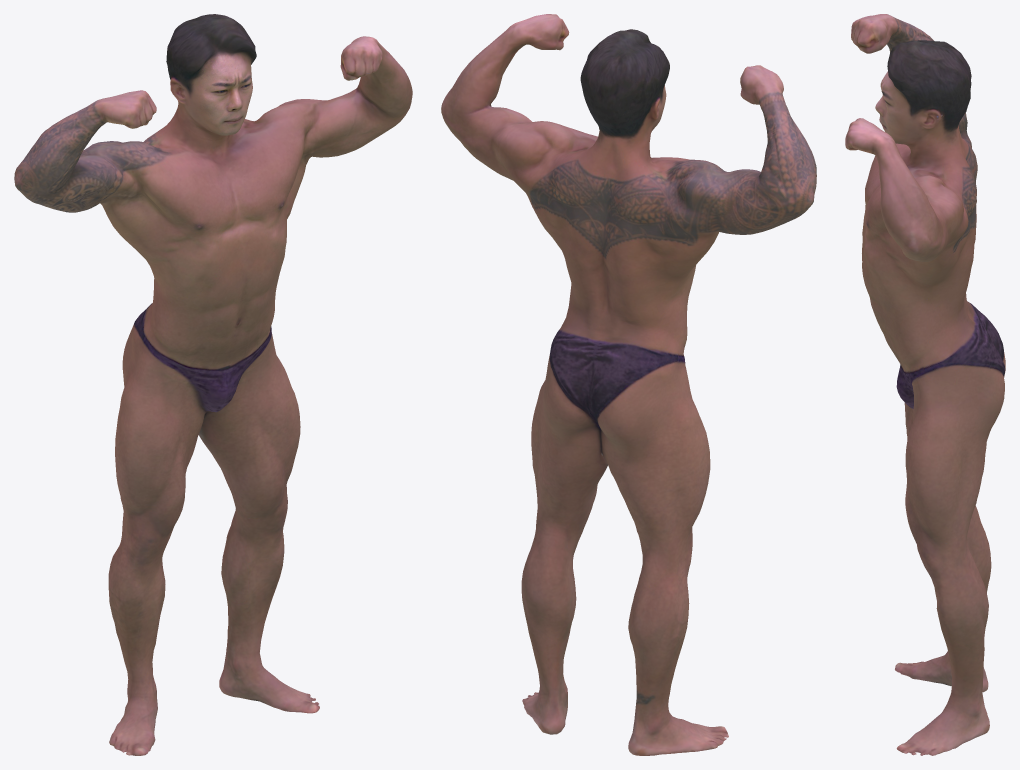
3 renders of one model, left to right at view 1: azimuth 30°, elevation 25°; view 2: azimuth 150°, elevation 25°; view 3: azimuth 270°, elevation 25°, orthographic. The views are drawn at different scales.
Parts seen in each view (by area): view 1: Frame_0210; view 2: Frame_0210; view 3: Frame_0210.
Part boxes in pixels (x1,y1,x2,y2): Frame_0210: (14, 14, 412, 755); Frame_0210: (441, 14, 816, 755); Frame_0210: (845, 14, 1005, 755).
Bounding box in the file's own units: 1.02 × 1.77 × 0.3858.
Materials: 1 (1 with a texture image).
